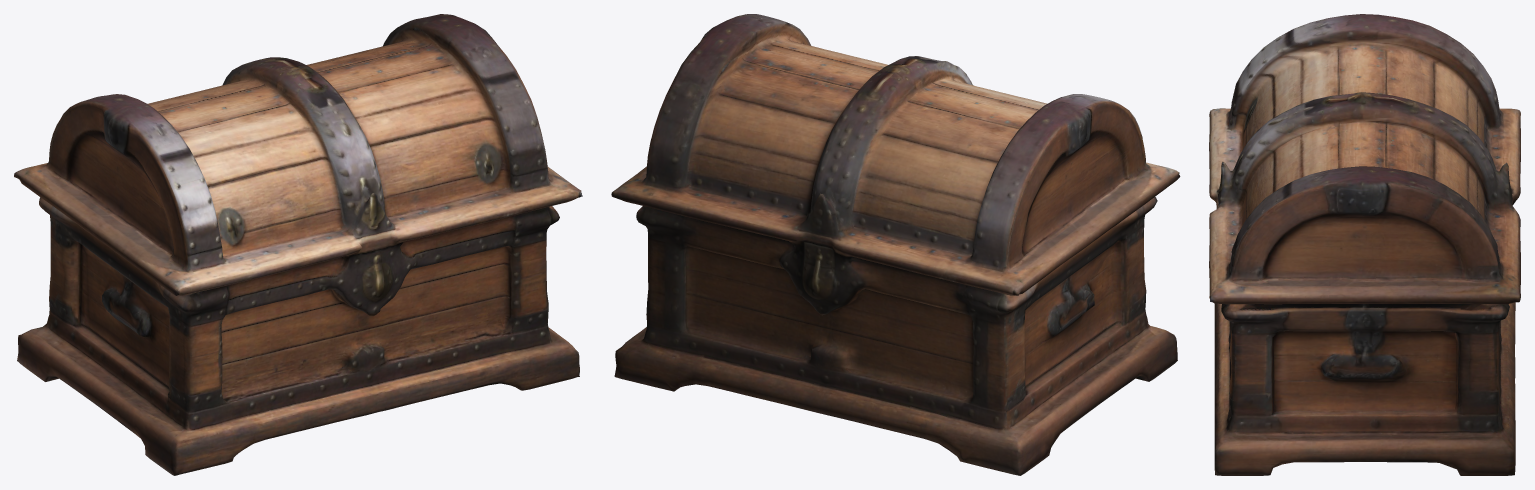
File: Meshy_AI_Wooden_chest_0311192334_texture.glb
The picture shows the model from 3 angles, left to right: view 1: azimuth 30°, elevation 25°; view 2: azimuth 150°, elevation 25°; view 3: azimuth 270°, elevation 25°; orthographic projection. The views are drawn at different scales.
Bounding box in the file's own units: 2 × 1.43 × 1.4.
Materials: 1 (1 with a texture image).
